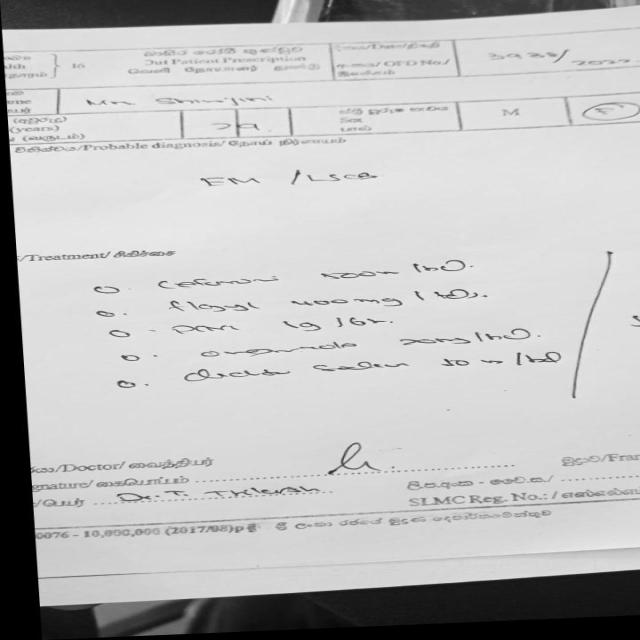Prescription: (177, 353, 555, 387), (195, 330, 534, 362), (145, 263, 471, 293), (158, 289, 483, 319), (167, 316, 386, 339)
